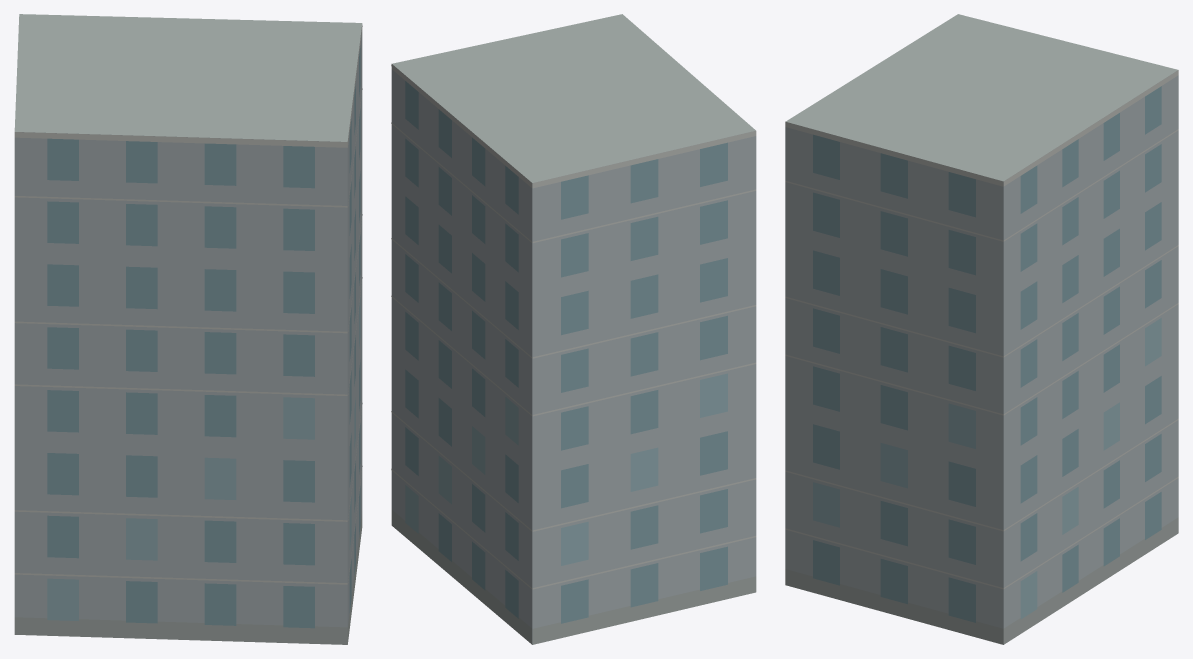
Rendered from survey-upis-32723225.glb.
3 renders of one model, left to right at view 1: azimuth 30°, elevation 25°; view 2: azimuth 150°, elevation 25°; view 3: azimuth 270°, elevation 25°, orthographic. The views are drawn at different scales.
Visible parts, largest first — view 1: survey-upis-32723225.tmp; view 2: survey-upis-32723225.tmp; view 3: survey-upis-32723225.tmp.
Part boxes in pixels (x1,y1,x2,y2): survey-upis-32723225.tmp: [14, 14, 362, 644]; survey-upis-32723225.tmp: [391, 14, 756, 644]; survey-upis-32723225.tmp: [785, 14, 1178, 644].
Size of the model in its own units: 16.33 by 21.05 by 16.2.
